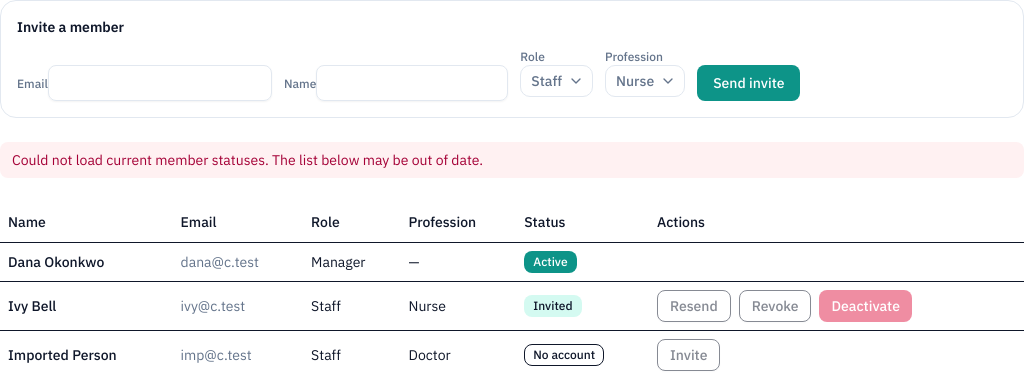
MembersTable › surfaces a server error inline rather than silently failing
Step 1. Type "dupe@c.test" into the field labelled "Email" → (160, 83), box [48,65,272,101]
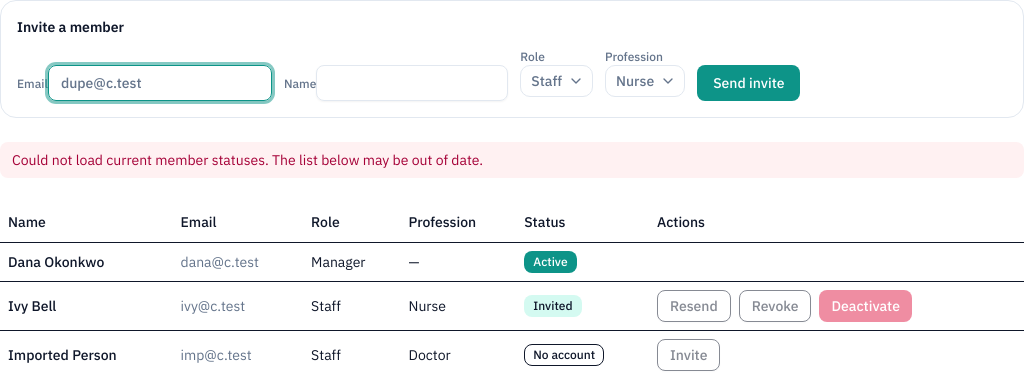
Step 2. Type "Dupe" into the field labelled "Name" → (412, 83), box [316,65,508,101]
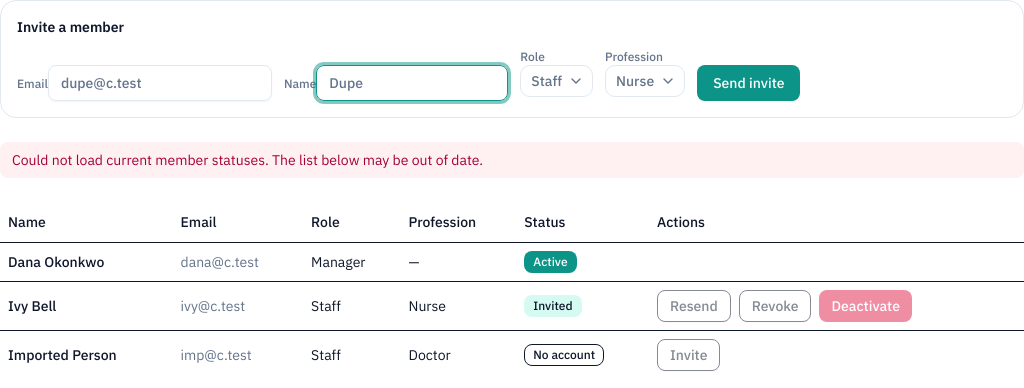
Step 3. Click the button "Send invite" → (749, 83), box [697,65,800,101]
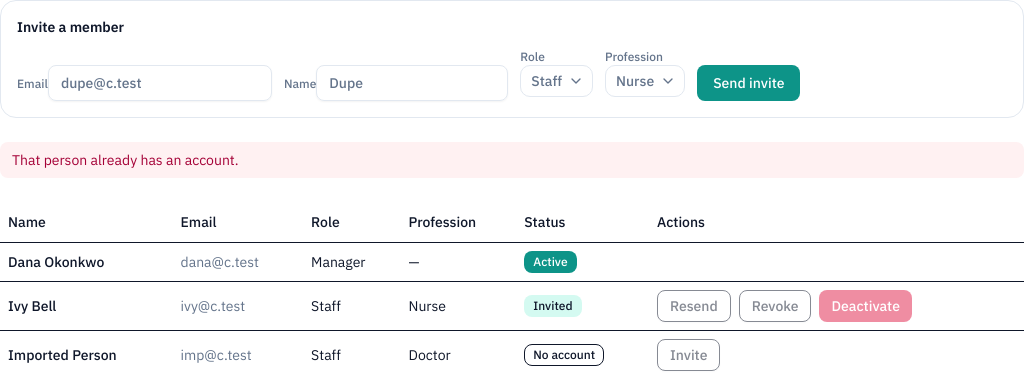
Expected: the message shows "already has an account", [12,151,239,169]
